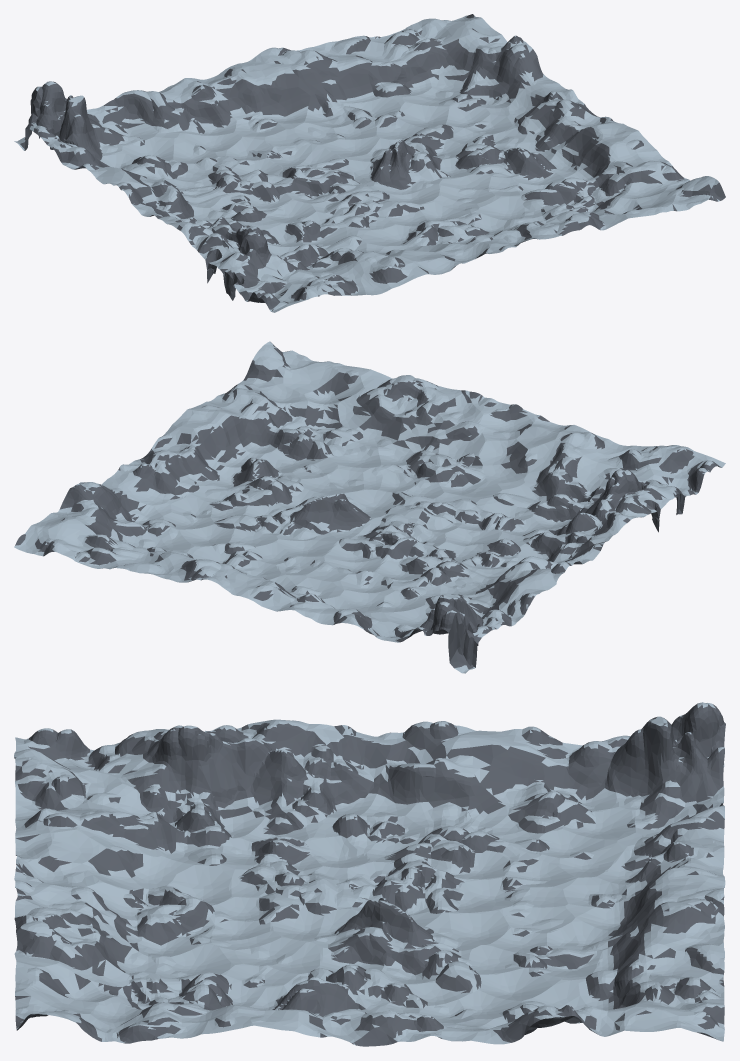
Rendered from Terrain.fbx.
The picture shows the model from 3 angles, top to bottom: view 1: azimuth 30°, elevation 25°; view 2: azimuth 150°, elevation 25°; view 3: azimuth 270°, elevation 25°; orthographic projection. The views are drawn at different scales.
Parts seen in each view (by area): view 1: Plane; view 2: Plane; view 3: Plane.
Part boxes in pixels (x1,y1,x2,y2): Plane: (14, 14, 725, 312); Plane: (14, 341, 725, 673); Plane: (14, 702, 725, 1046).
Size of the model in its own units: 201 by 27.02 by 201.
